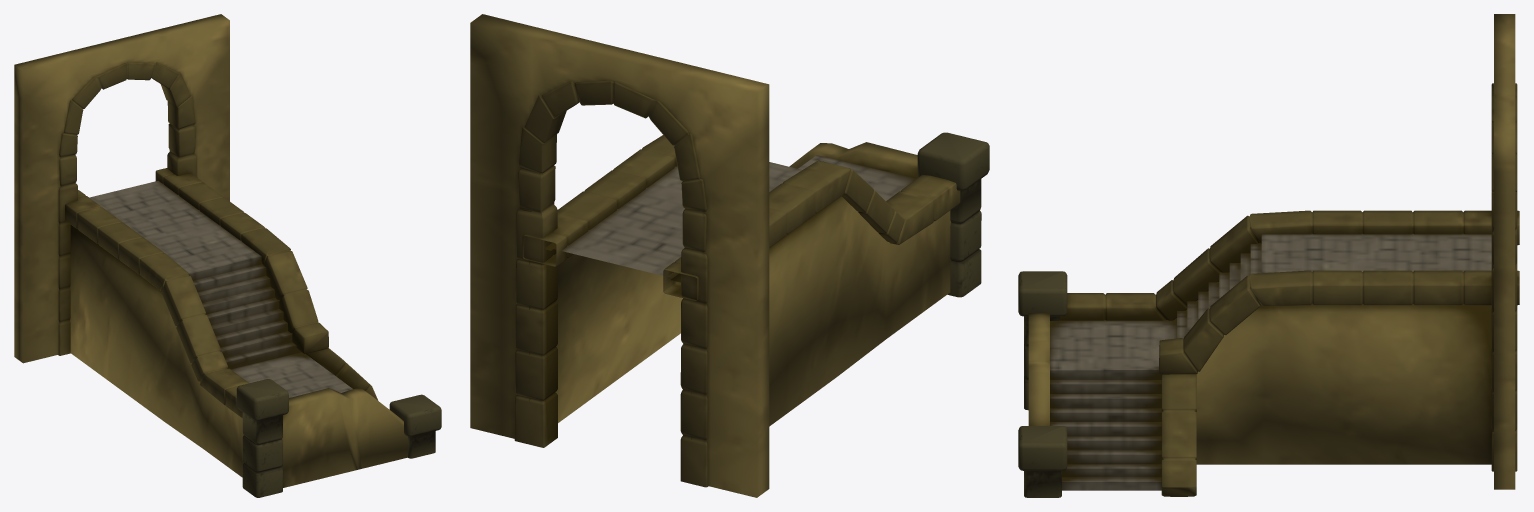
File: Prison_Ladder.fbx
The picture shows the model from 3 angles, left to right: view 1: azimuth 30°, elevation 25°; view 2: azimuth 150°, elevation 25°; view 3: azimuth 270°, elevation 25°; orthographic projection. The views are drawn at different scales.
Parts seen in each view (by area): view 1: Wall_Details.011; view 2: Wall_Details.011; view 3: Wall_Details.011.
Part boxes in pixels (bbox=[...]): Wall_Details.011: bbox=[14, 14, 441, 497]; Wall_Details.011: bbox=[470, 14, 989, 497]; Wall_Details.011: bbox=[1018, 14, 1519, 497].
Bounding box in the file's own units: 665 × 838 × 1066.
2 materials, 2 textured.
